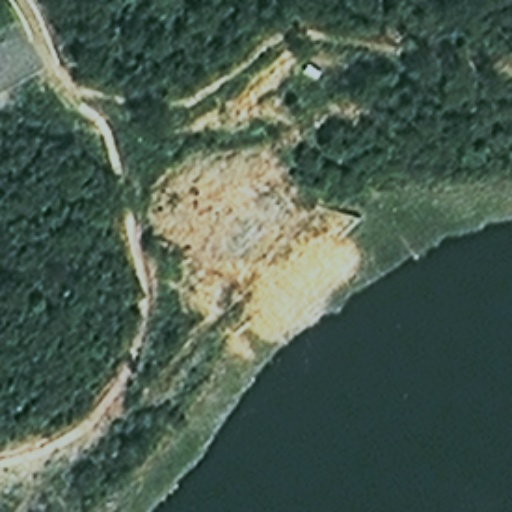landslide: (149, 152, 359, 330)
